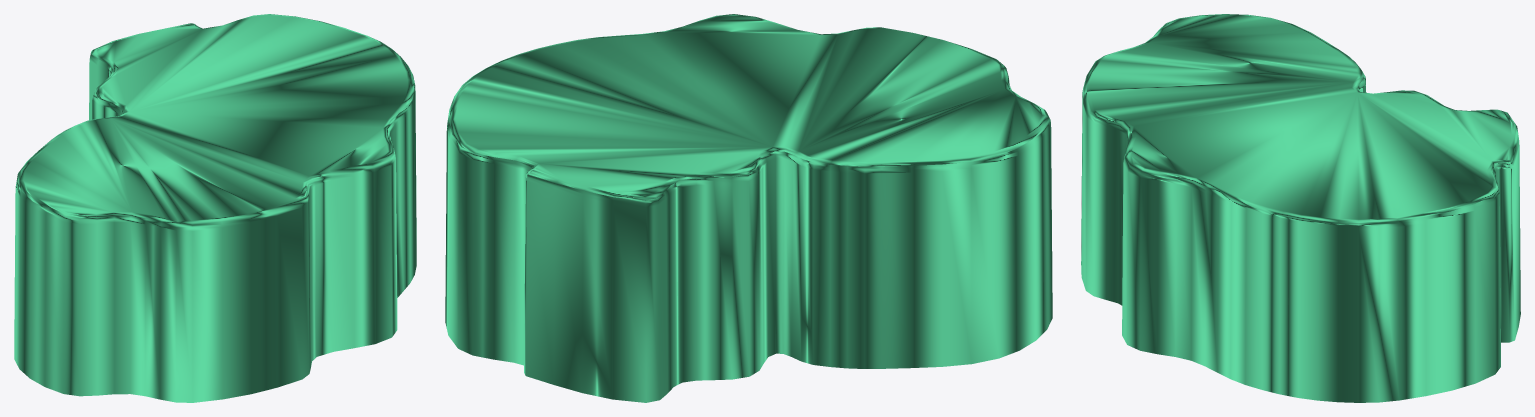
The model's file is lorville_noflyzone_suburb_redout_04.glb.
3 views of the same model, side by side, from view 1: azimuth 30°, elevation 25°; view 2: azimuth 150°, elevation 25°; view 3: azimuth 270°, elevation 25° (orthographic). The views are drawn at different scales.
Size of the model in its own units: 4029 by 1590 by 3527.
